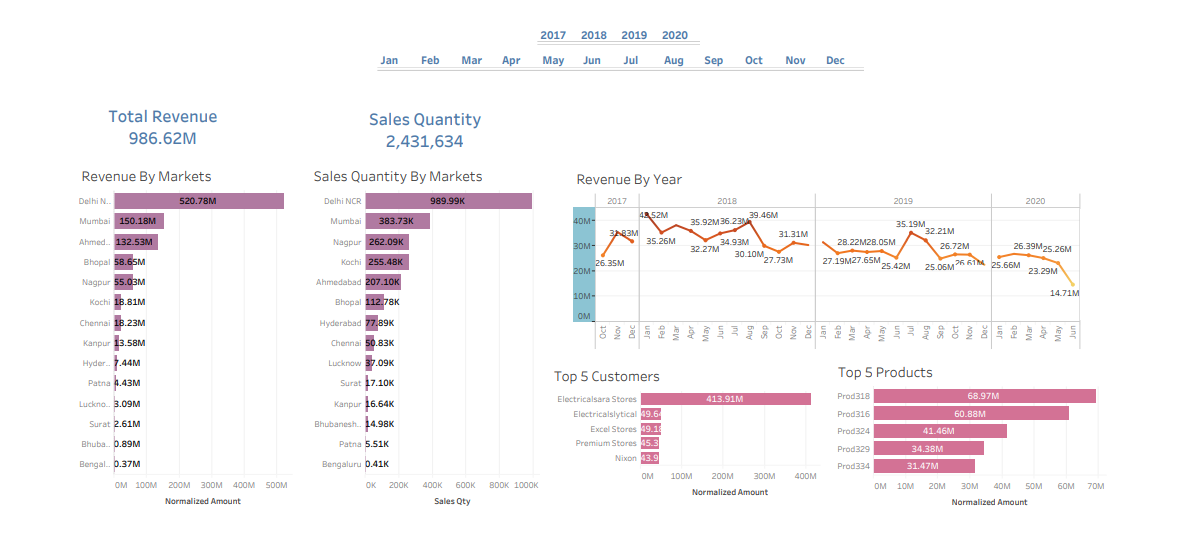

What the dashboard file says about the page in this screenshot:
{"tool":"tableau","page":{"name":"Dashboard 1","canvas":[1600,900],"ordinal":0},"visuals":[{"type":"worksheet","title":"Year","mark":"Automatic","cols":["cy_date"],"box":[413,17,268,49]},{"type":"worksheet","title":"Month","mark":"Automatic","cols":["cy_date"],"box":[162.1,63,769.1,48]},{"type":"worksheet","title":"Revenue","mark":"Automatic","box":[59.7,127,193.1,97]},{"type":"worksheet","title":"Quantity","mark":"Automatic","box":[449.1,131,217.6,81]},{"type":"worksheet","title":"Revenue By Markets","mark":"Automatic","rows":["markets_name"],"cols":["Calculation_338332949192265728"],"box":[25,226,316,530]},{"type":"worksheet","title":"Sales Quantity By Markets","mark":"Automatic","rows":["markets_name"],"cols":["sales_qty"],"box":[369,226,339,519]},{"type":"worksheet","title":"Revenue By Year","mark":"Automatic","rows":["Calculation_338332949192265728"],"cols":["cy_date","cy_date"],"box":[758,231,751,273]},{"type":"worksheet","title":"Top 5 Products","mark":"Automatic","rows":["product_code"],"cols":["Calculation_338332949192265728"],"box":[1146,517,401,229]},{"type":"worksheet","title":"Top 5 Customers","mark":"Automatic","rows":["custmer_name"],"cols":["Calculation_338332949192265728"],"box":[725,523,398,223]}]}

Visuals, with their boxes on the page's 1600x900 design canvas (x1, y1, x2, y2). These are canvas units, not pixel positions in the 1198x540 screenshot, which may show the page scaled, cropped or inside an application window:
"Year" worksheet: 413:17:681:66
"Month" worksheet: 162:63:931:111
"Revenue" worksheet: 60:127:253:224
"Quantity" worksheet: 449:131:667:212
"Revenue By Markets" worksheet: 25:226:341:756
"Sales Quantity By Markets" worksheet: 369:226:708:745
"Revenue By Year" worksheet: 758:231:1509:504
"Top 5 Products" worksheet: 1146:517:1547:746
"Top 5 Customers" worksheet: 725:523:1123:746
